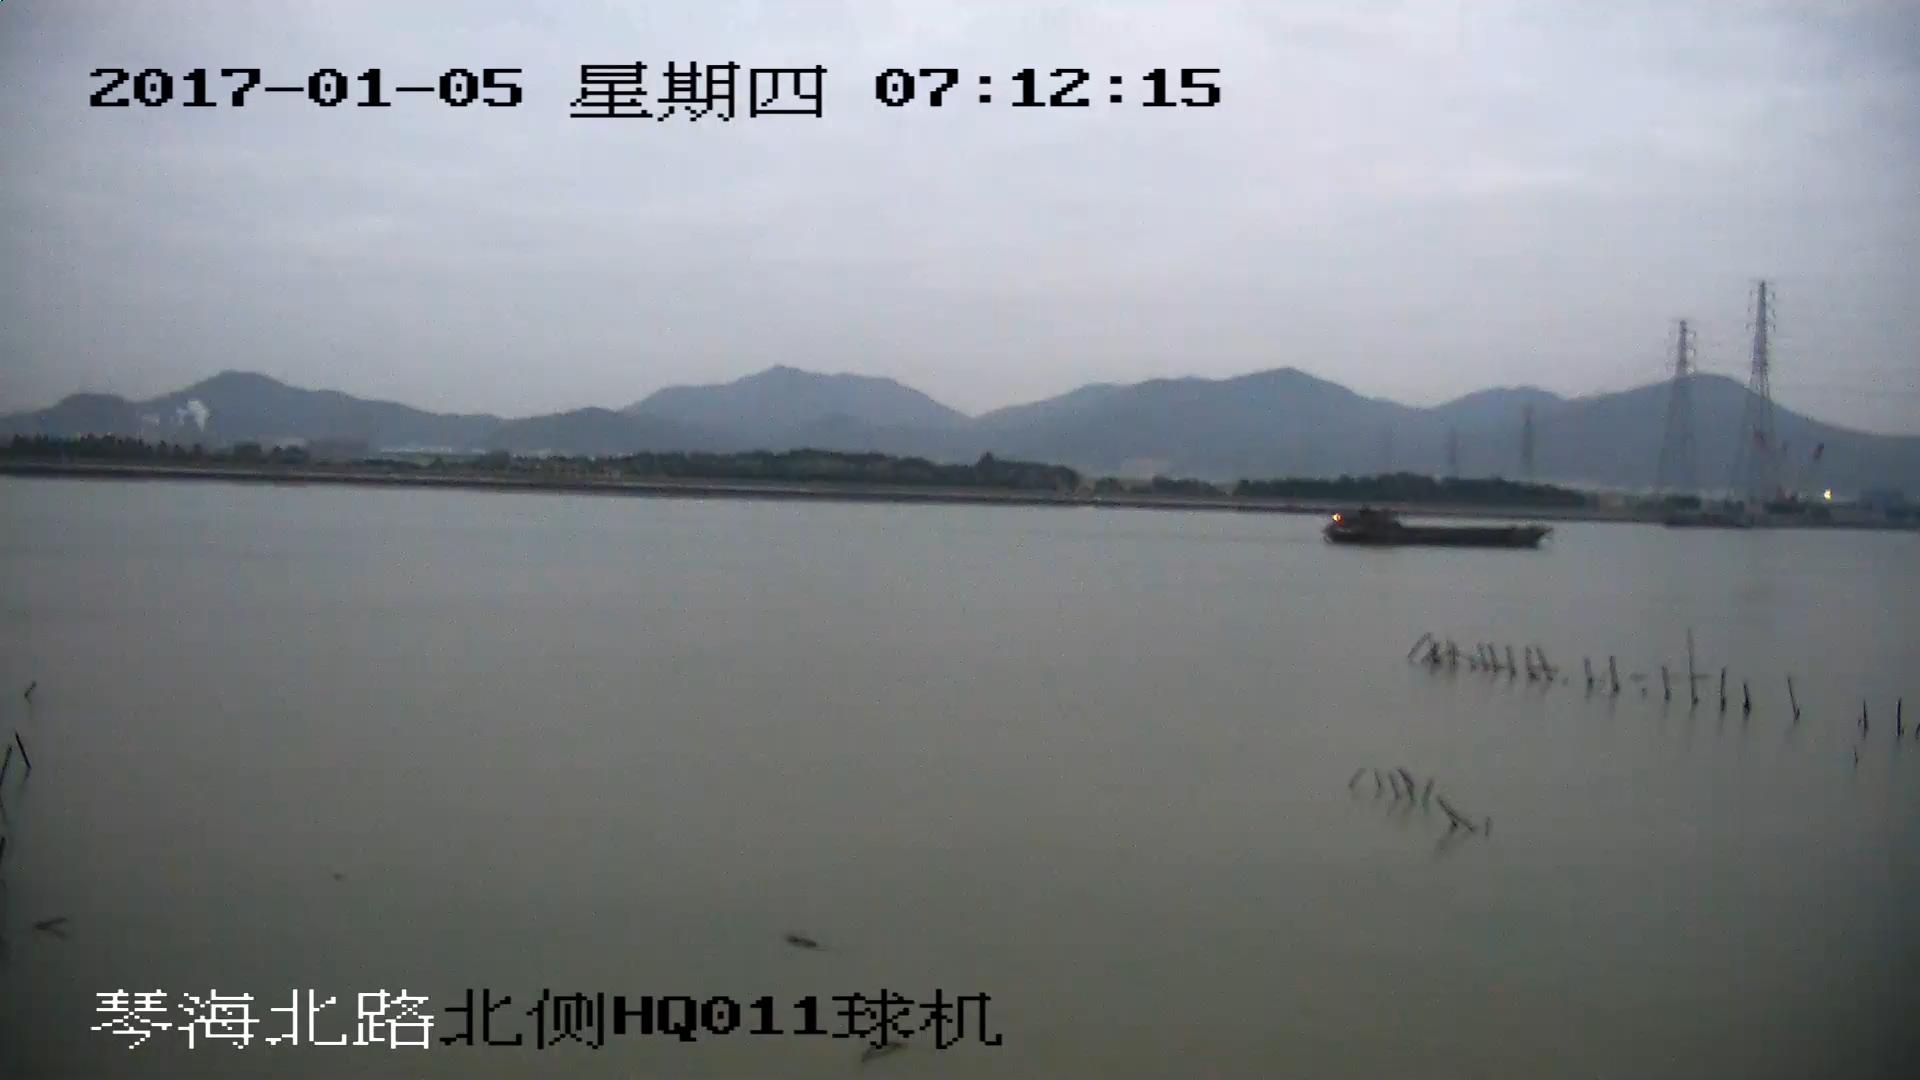bulk cargo carrier: (1322, 513, 1550, 549)
